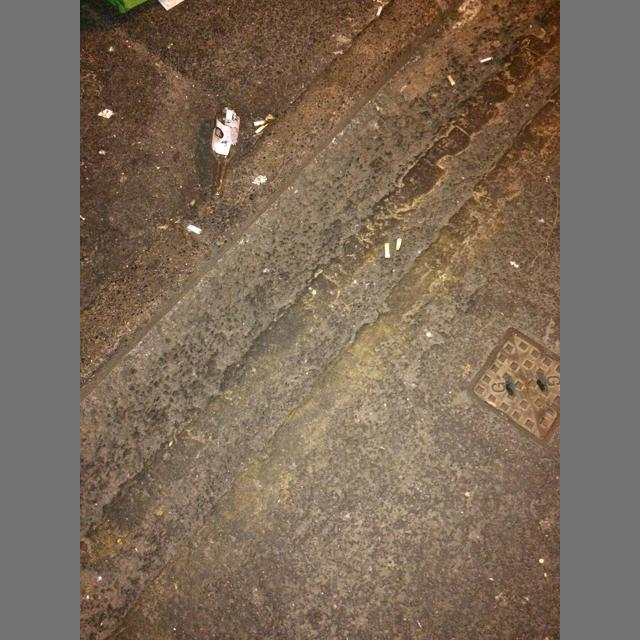litter: (211, 105, 241, 198), (255, 122, 269, 134), (187, 225, 202, 235), (384, 244, 390, 258), (396, 238, 402, 251), (265, 115, 278, 120), (255, 121, 267, 126), (376, 7, 382, 16)
